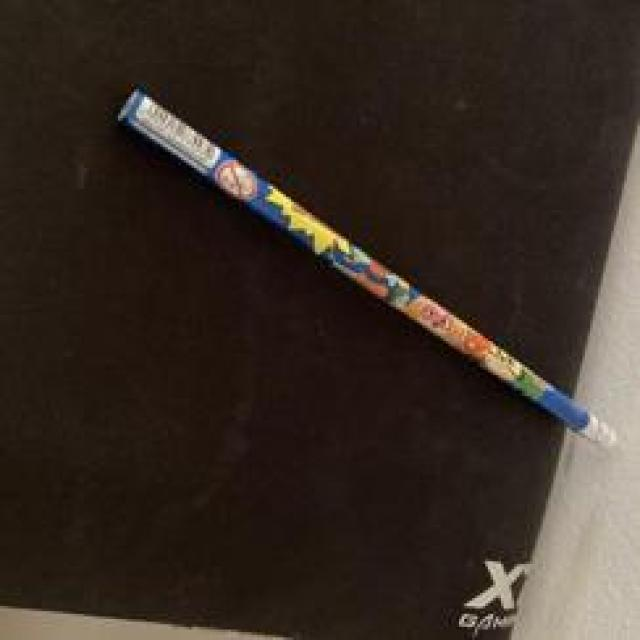pencil: (102, 69, 636, 472)
